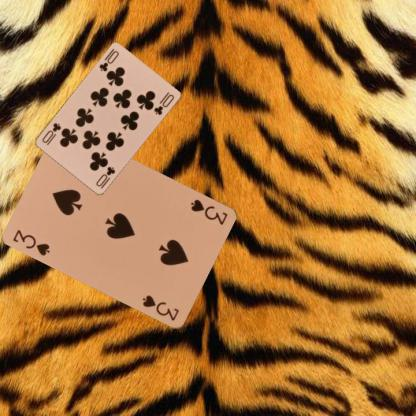10c: (97, 46, 120, 74), (93, 164, 116, 188)
3s: (10, 227, 52, 257), (188, 197, 230, 226)
